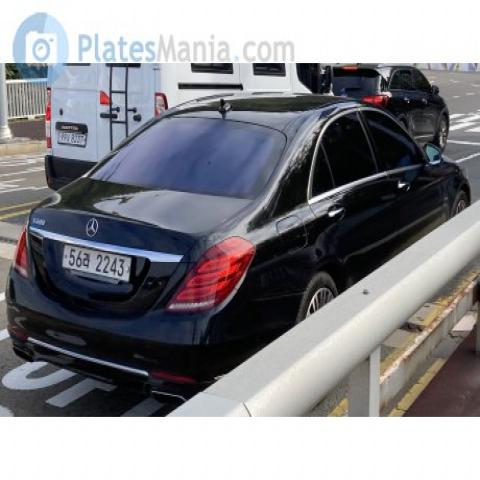LP: (54, 230, 139, 296)
